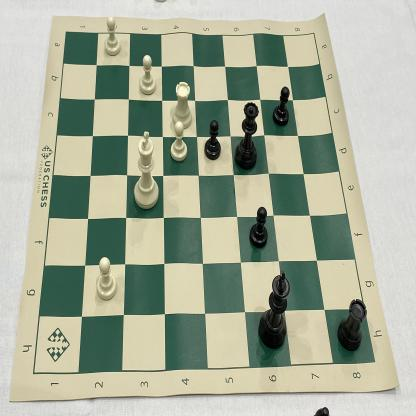black-king: (255, 270, 291, 351)
black-pawn: (247, 204, 270, 251), (202, 118, 223, 162), (272, 85, 292, 128)
black-queen: (233, 100, 260, 173)
black-rook: (337, 295, 367, 354)
white-king: (130, 131, 160, 211)
white-pawn: (95, 255, 119, 304), (168, 120, 189, 164), (102, 14, 123, 58), (137, 53, 157, 97)
white-rook: (171, 79, 194, 131)
